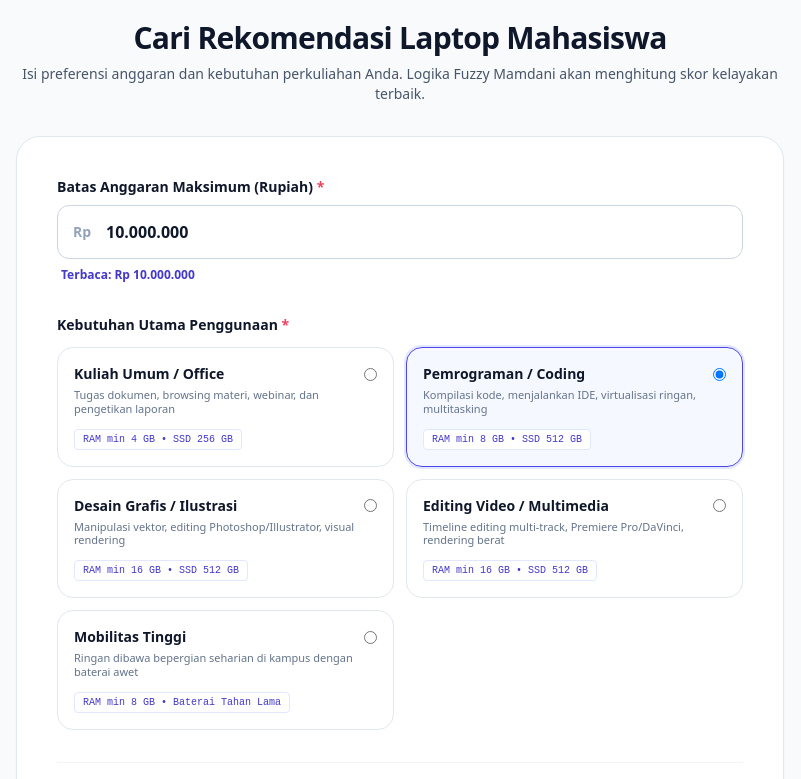
Test: FormRekomendasi Component › renders form inputs and validation errors when budget is empty
Expected: the heading "Cari Rekomendasi Laptop Mahasiswa" is shown, [134,17,667,58]
Note: Kosongkan anggaran dan submit
Step 1. Clear the field with placeholder "Contoh: 10.000.000" → {"x": 400, "y": 232}, box [57,205,743,259]
(page scrolled)
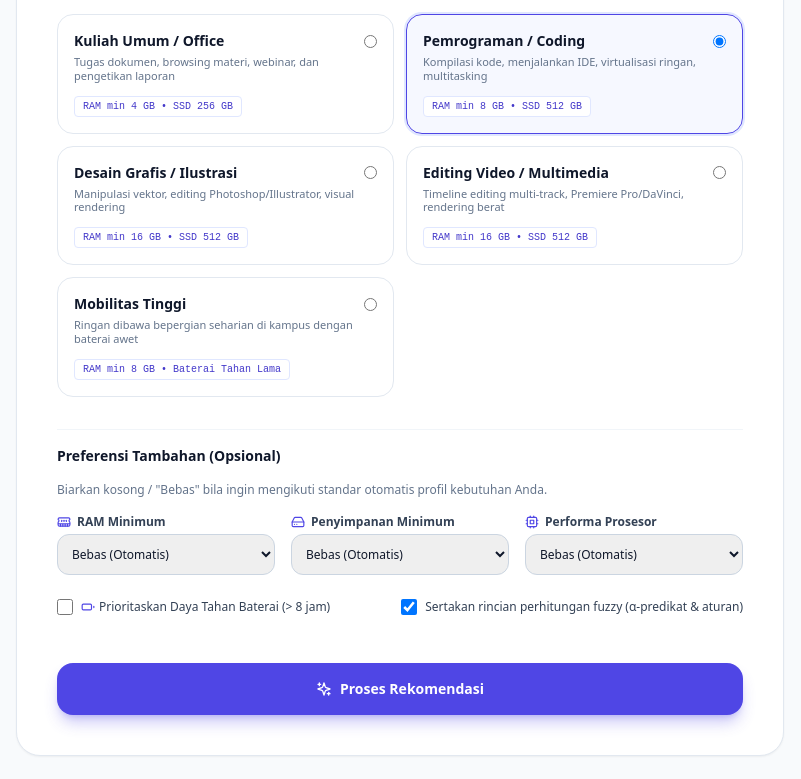
Step 2. Click the button "Proses Rekomendasi" → {"x": 400, "y": 688}, box [57,662,743,714]
(page scrolled)
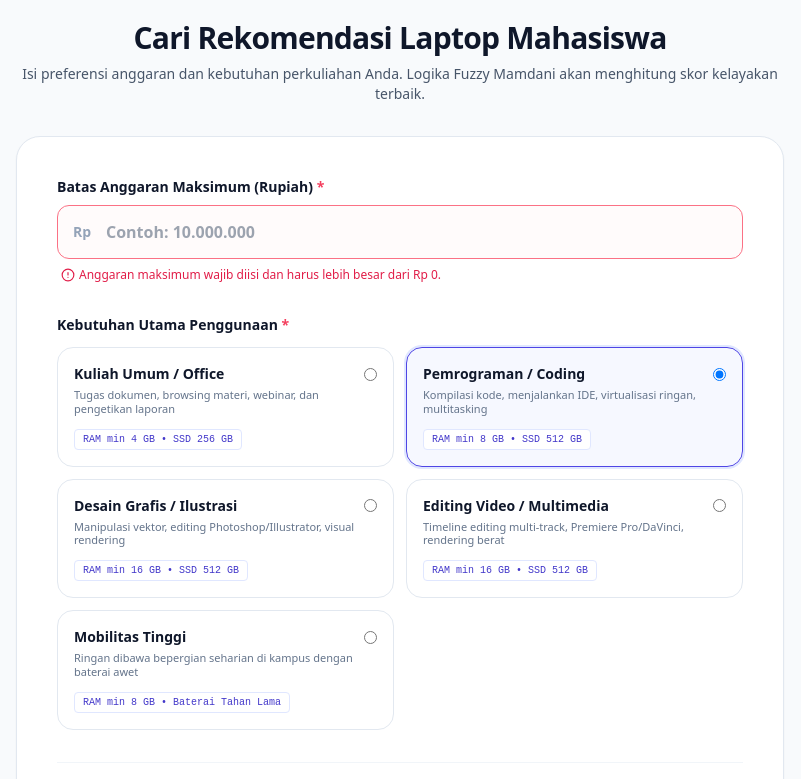
Expected: the text "Anggaran maksimum wajib diisi dan harus lebih besar dari Rp 0" is shown, [79,266,441,283]
